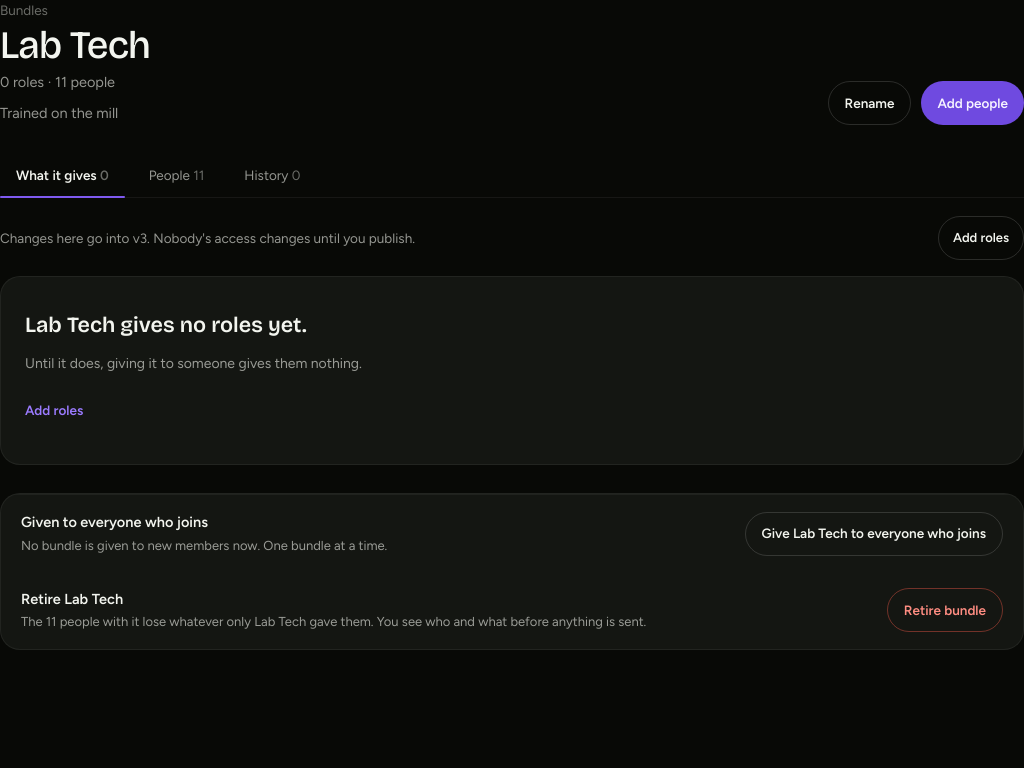
Test case: after a bundle is retired › keeps the destructive action when the delete failed
The width and height of the screenshot is (1024, 768).
Click the button "Retire bundle": (945, 610) 887,588 -> 1003,632
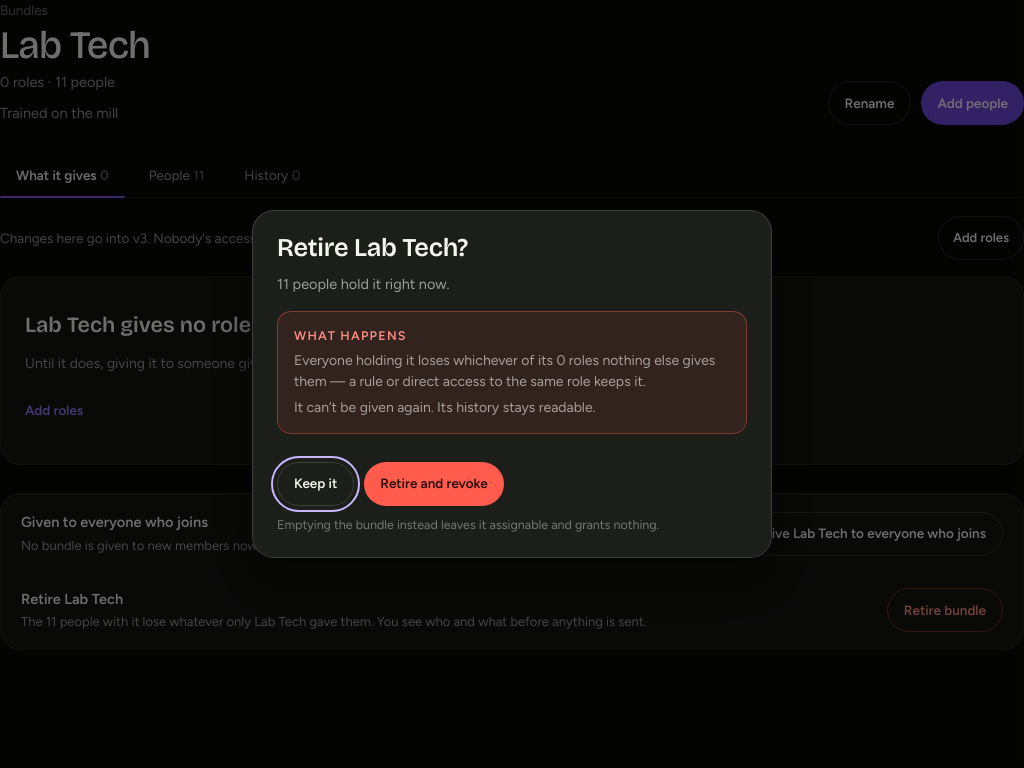
Click the button "Retire and revoke": (434, 484) 364,462 -> 504,506
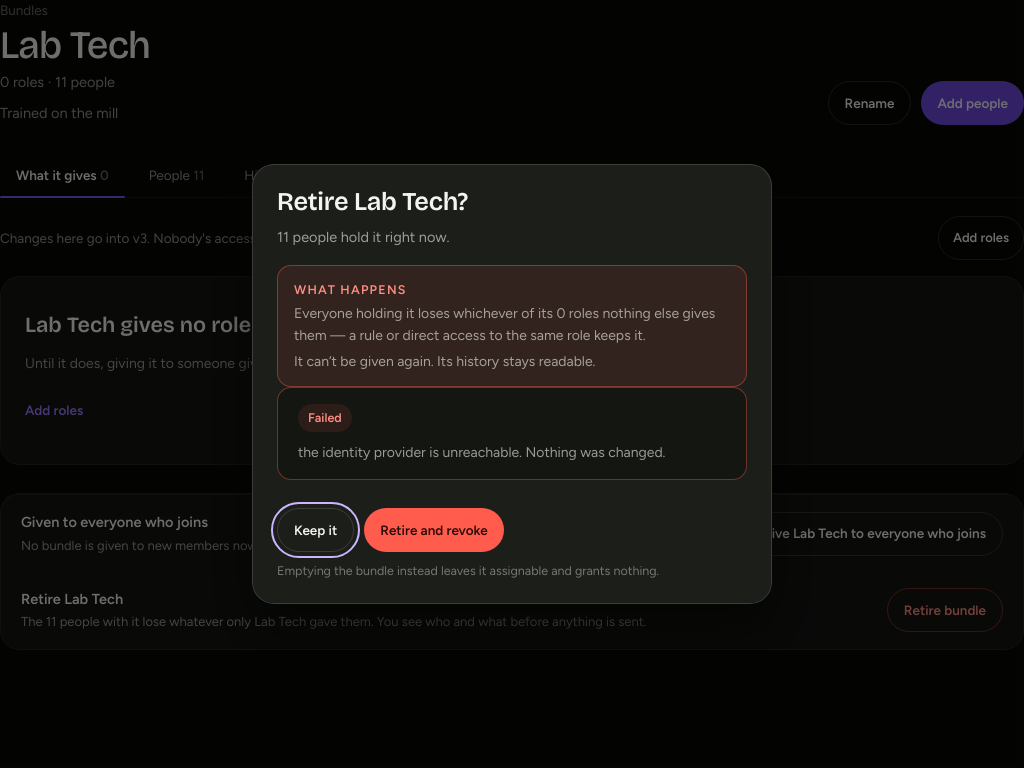
Result: the button "Retire and revoke" is shown at 364,508 -> 504,552
Result: the button "Keep it" is shown at 277,508 -> 354,552
Result: the text "unreachable" is shown at 298,444 -> 522,461
